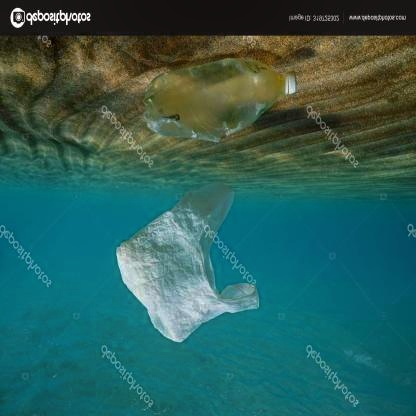pbag: (116, 182, 260, 344)
pbottle: (142, 57, 298, 144)
